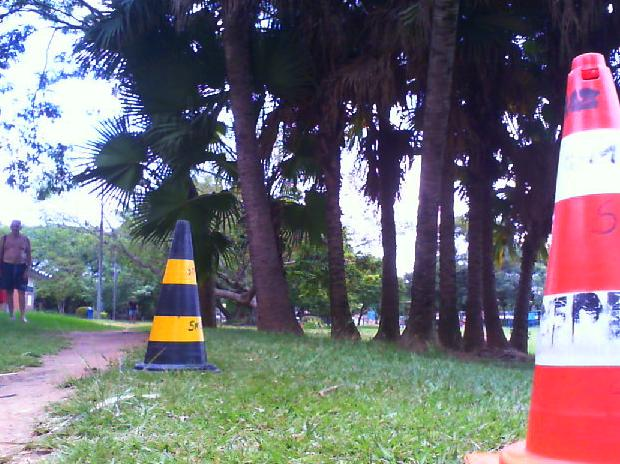0 cone: (463, 53, 620, 464), (133, 220, 220, 374)
